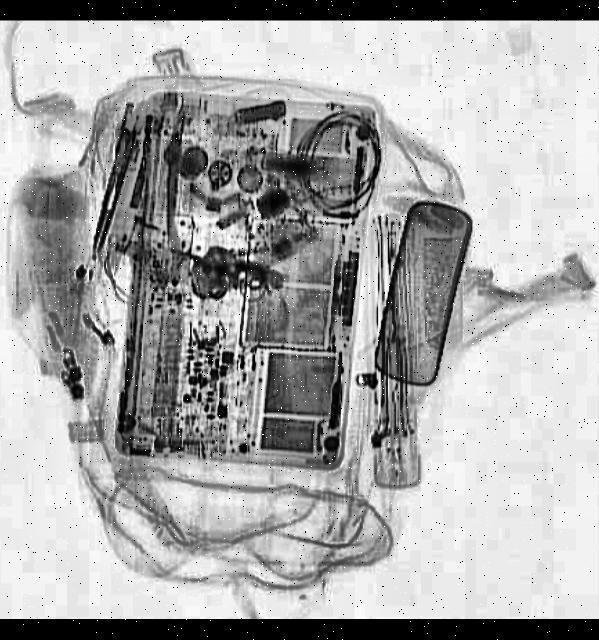Knife: (92, 99, 148, 250)
